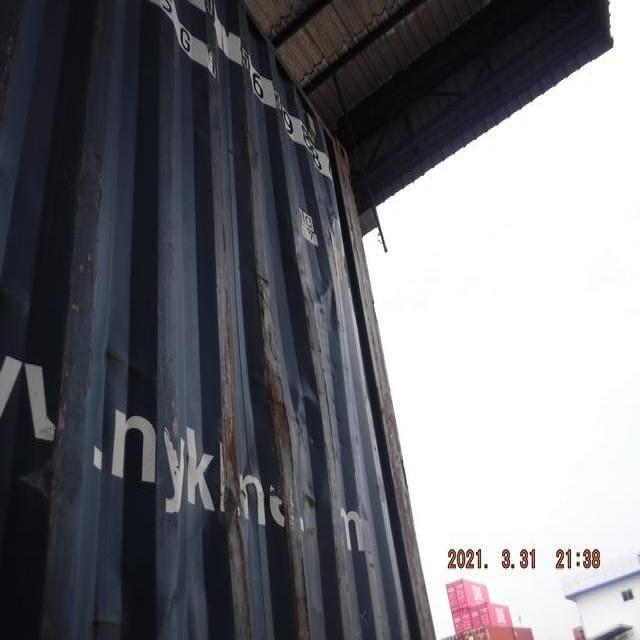Minor-Dent: (186, 419, 306, 581), (244, 331, 341, 453), (288, 193, 357, 324)
